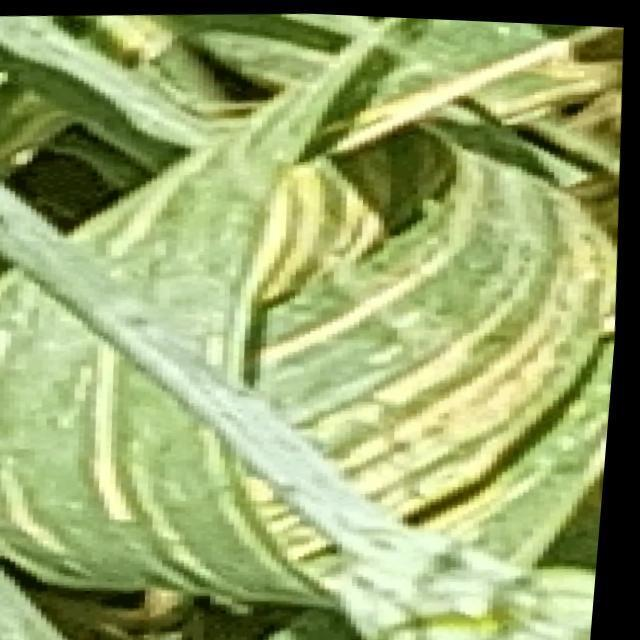Yellow_Rust: (5, 19, 587, 640)
